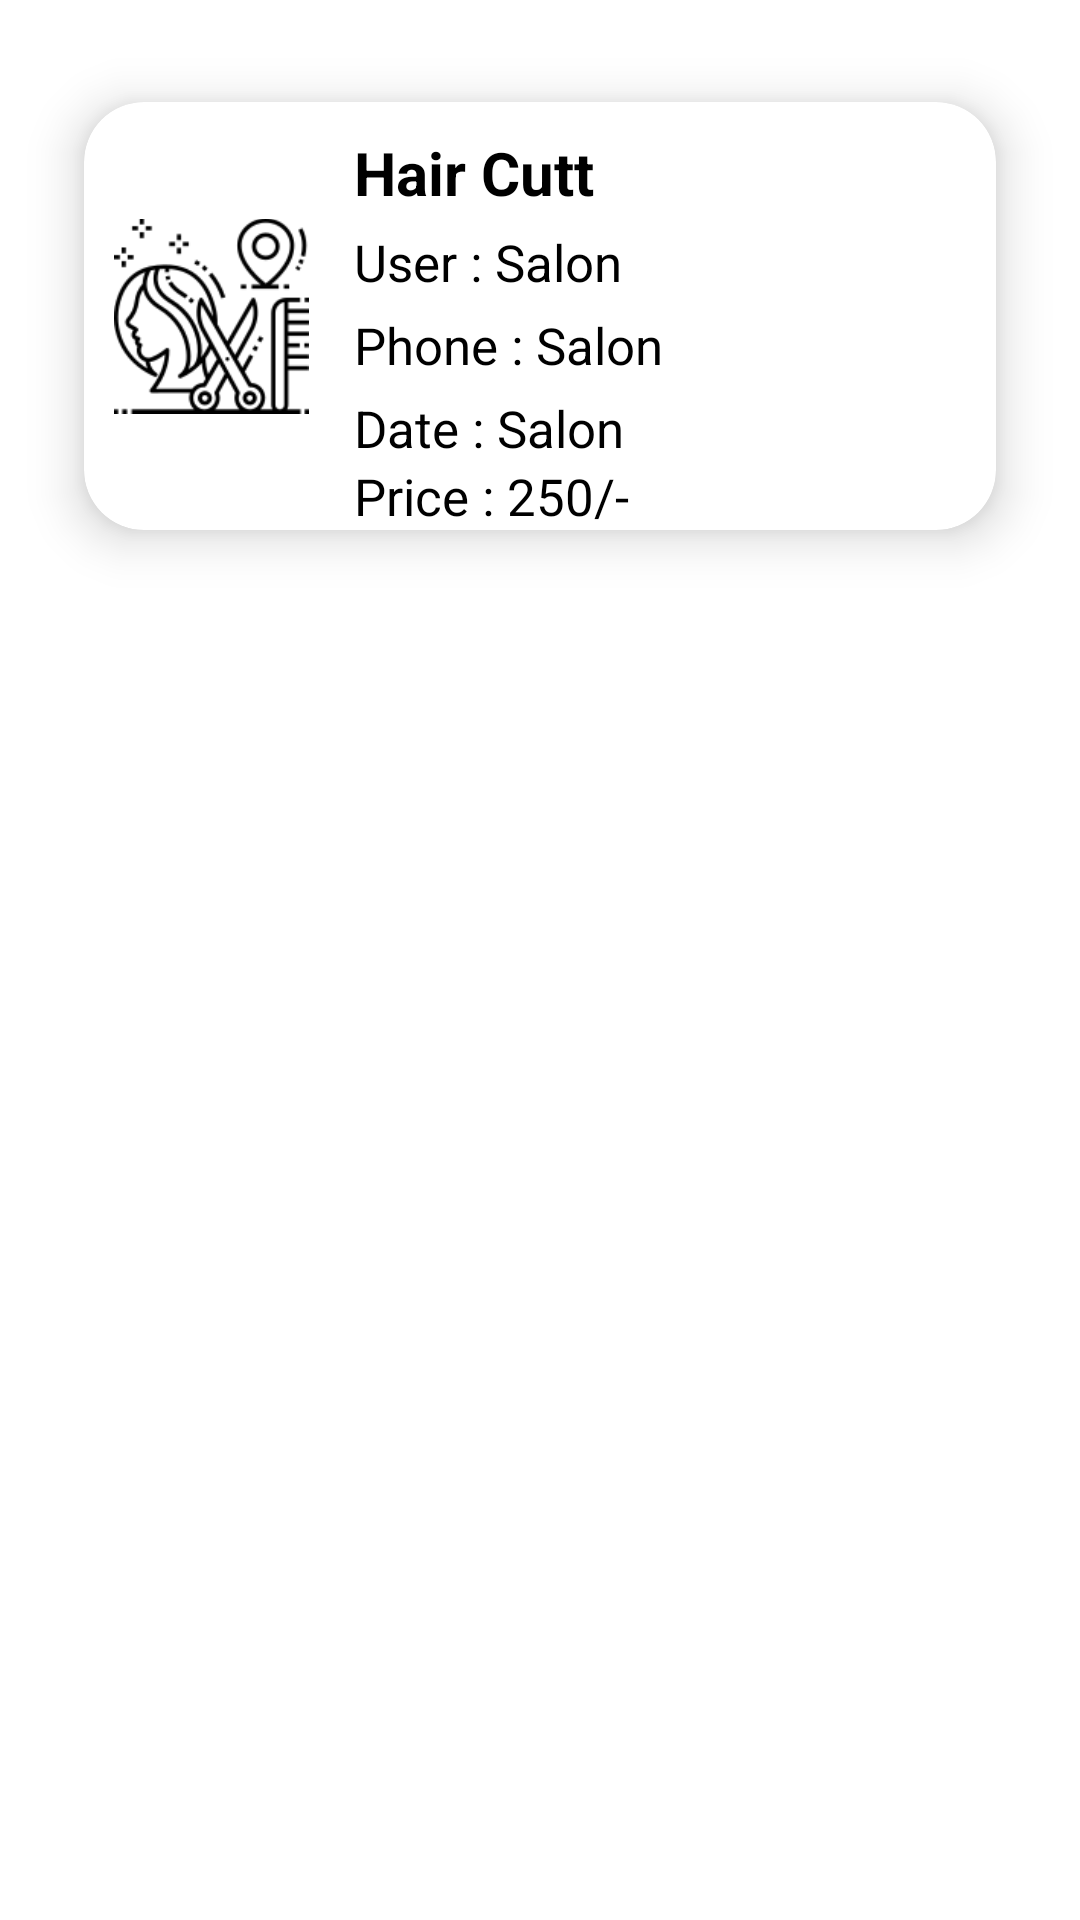

Where icons sit on this 1080×1920 app screen, as box=[x1, y1, x2, y2]:
beauty: box=[114, 219, 309, 414]
